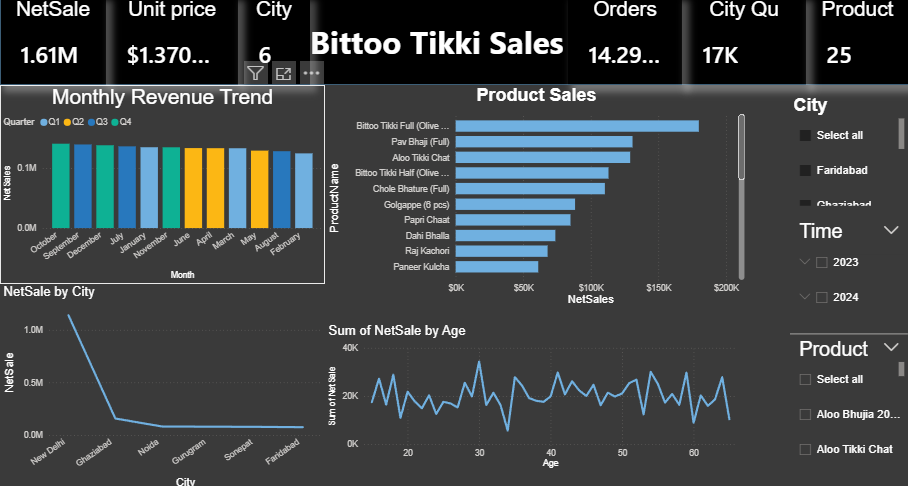

The page's visual inventory and layout, read from the dashboard file:
{"tool":"powerbi","page":{"name":"Page 1","canvas":[1280,720],"ordinal":0},"visuals":[{"type":"shape","box":[0,0,1280.3,123.9],"z":0},{"type":"slicer","fields":{"Values":["Dates.Year","Dates.Quarter","Dates.MonthName"]},"box":[1112.7,309.9,166.2,159.2],"z":1000},{"type":"lineChart","title":" NetSale by City","fields":{"Category":["Stores.City"],"Y":["Sum(Sales.NetSale)"]},"box":[0,403.9,458,292.7],"z":2000},{"type":"barChart","title":" Product Sales","fields":{"Category":["Products.ProductName"],"Y":["Sum(Sales.UnitPrice)"]},"box":[457.7,123.9,595.8,315.5],"z":3000},{"type":"columnChart","title":"Monthly Revenue Trend","fields":{"Category":["Dates.MonthName"],"Series":["Dates.Quarter"],"Y":["Sum(Sales.NetSale)"]},"box":[0,124.4,458,279.5],"z":4000},{"type":"lineChart","fields":{"Y":["Sum(Sales.NetSale)"],"Category":["Customers.Age"]},"box":[457.7,459.2,584.5,209.9],"z":5000},{"type":"cardVisual","title":"NetSale","fields":{"Data":["Sum(Sales.NetSale)"]},"box":[0,0,149.3,123.9],"z":6000},{"type":"cardVisual","title":"Orders","fields":{"Data":["CountNonNull(Sales.TransactionID)"]},"box":[800,0,160.6,123.9],"z":7000},{"type":"cardVisual","title":"Unit price","fields":{"Data":["Sum(Sales.UnitPrice)"]},"box":[149.3,0,185.9,123.9],"z":8000},{"type":"cardVisual","title":"Product","fields":{"Data":["CountNonNull(Products.ProductName)"]},"box":[1135.2,0,145.1,123.9],"z":9000},{"type":"slicer","fields":{"Values":["Products.ProductName"]},"box":[1112.7,469,166.2,211.3],"z":10000},{"type":"slicer","title":"City","fields":{"Values":["Stores.City"]},"box":[1112.7,138,166.2,160.6],"z":11000},{"type":"cardVisual","title":"City","fields":{"Data":["Count(Stores.City)"]},"box":[335.2,0,101.4,123.9],"z":12000},{"type":"cardVisual","title":"City Qu","fields":{"Data":["Sum(Sales.Quantity)"]},"box":[960.6,0,174.6,123.9],"z":13000}]}

Visuals, with their boxes on the page's 1280x720 design canvas (x1, y1, x2, y2). These are canvas units, not pixel positions in the 908x486 screenshot, which may show the page scaled, cropped or inside an application window:
shape: pyautogui.locateOnScreen(0, 0, 1280, 124)
slicer - Dates.Year x Dates.Quarter: pyautogui.locateOnScreen(1113, 310, 1279, 469)
" NetSale by City" lineChart: pyautogui.locateOnScreen(0, 404, 458, 697)
" Product Sales" barChart: pyautogui.locateOnScreen(458, 124, 1054, 439)
"Monthly Revenue Trend" columnChart: pyautogui.locateOnScreen(0, 124, 458, 404)
lineChart - Sum(Sales.NetSale) x Customers.Age: pyautogui.locateOnScreen(458, 459, 1042, 669)
"NetSale" cardVisual: pyautogui.locateOnScreen(0, 0, 149, 124)
"Orders" cardVisual: pyautogui.locateOnScreen(800, 0, 961, 124)
"Unit price" cardVisual: pyautogui.locateOnScreen(149, 0, 335, 124)
"Product" cardVisual: pyautogui.locateOnScreen(1135, 0, 1280, 124)
slicer - Products.ProductName: pyautogui.locateOnScreen(1113, 469, 1279, 680)
"City" slicer: pyautogui.locateOnScreen(1113, 138, 1279, 299)
"City" cardVisual: pyautogui.locateOnScreen(335, 0, 437, 124)
"City Qu" cardVisual: pyautogui.locateOnScreen(961, 0, 1135, 124)
